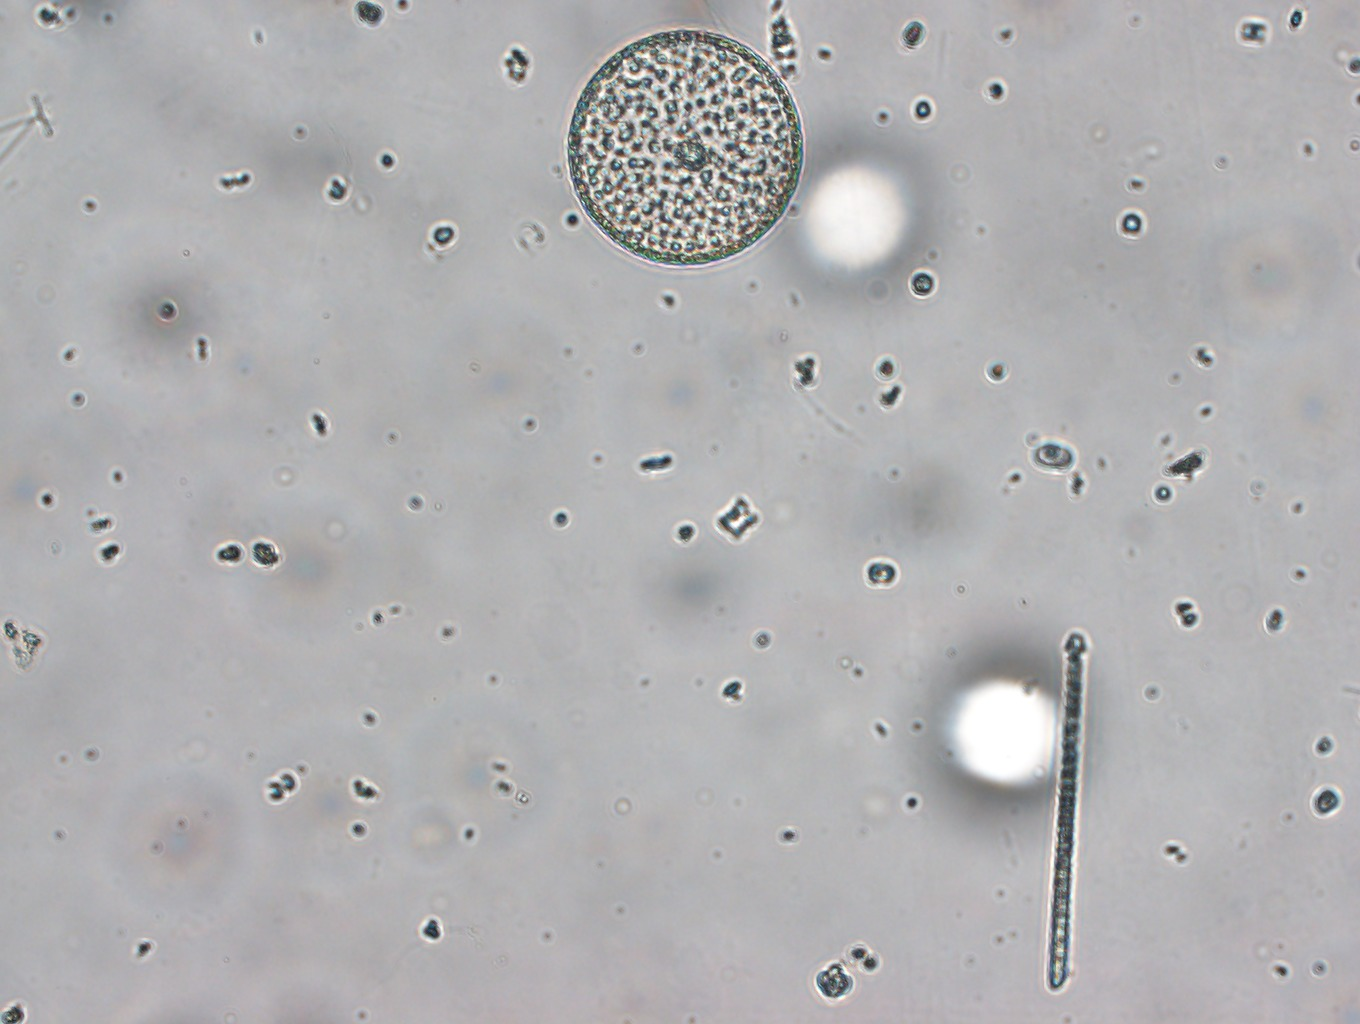coscinodiscus: (564, 28, 808, 279)
